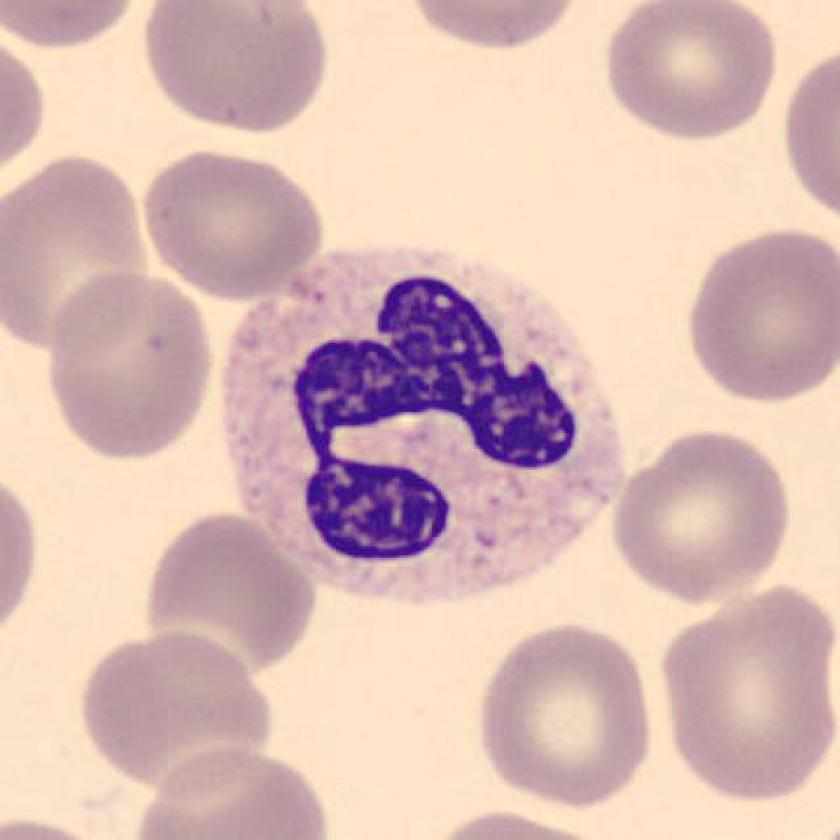neutrophil: (225, 248, 626, 602)
